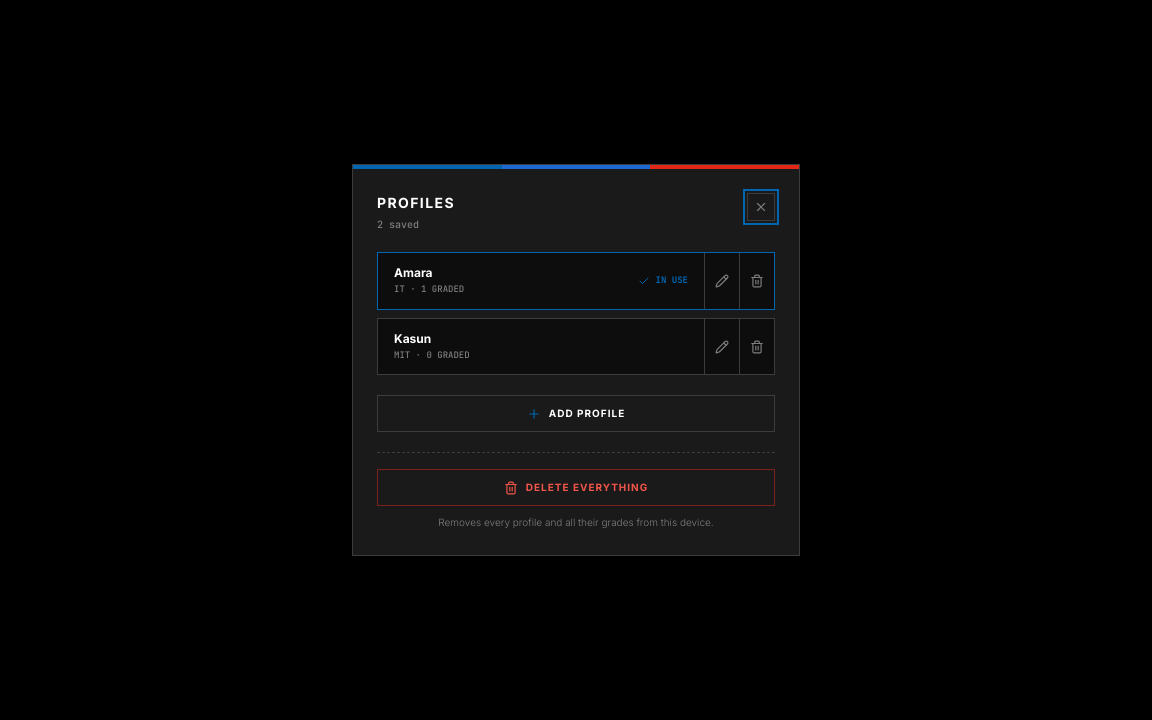
ProfileMenu › abandons a rename through the cancel button too
Click the button named "rename amara" at (722, 281), box [704, 253, 739, 309]
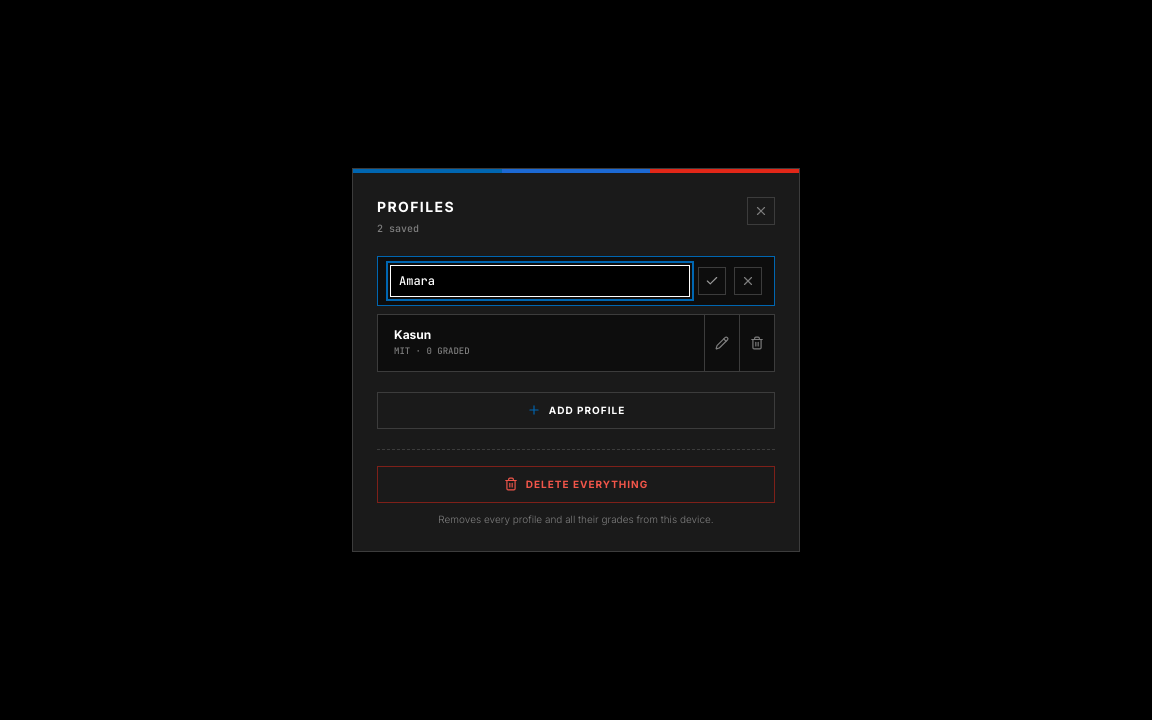
Type "Zed" into the field named "rename amara" at (540, 281), box [390, 265, 690, 297]
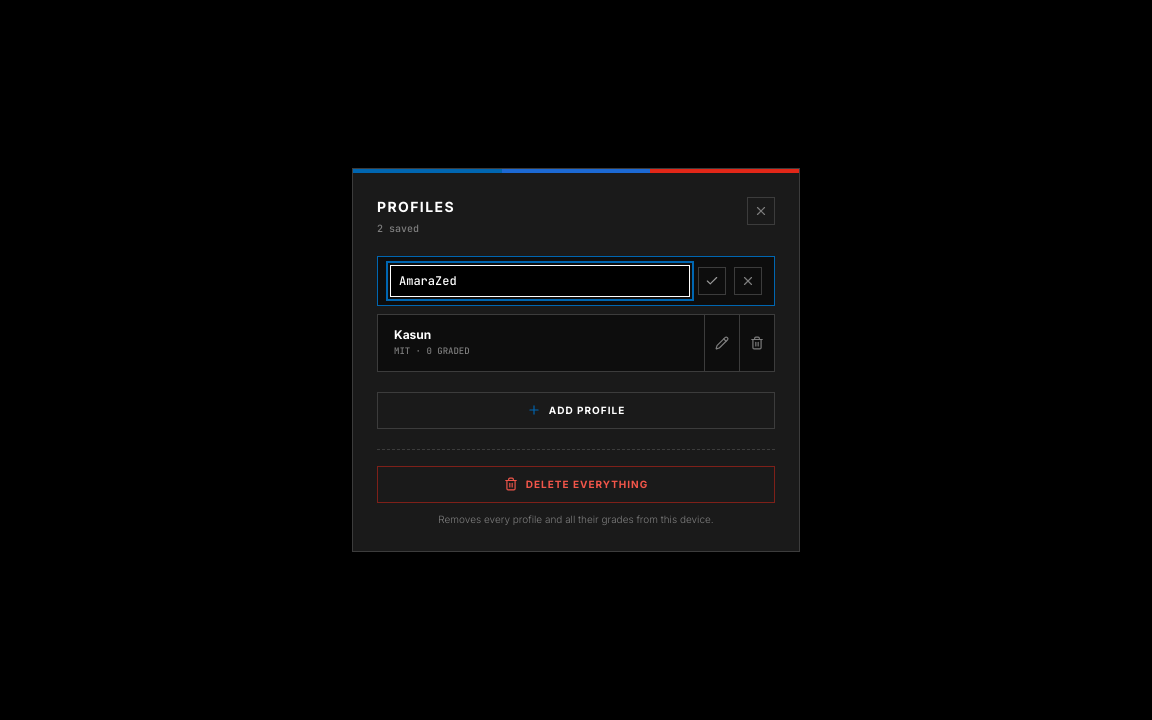
Click the button named "cancel rename" at (748, 281), box [734, 267, 762, 295]
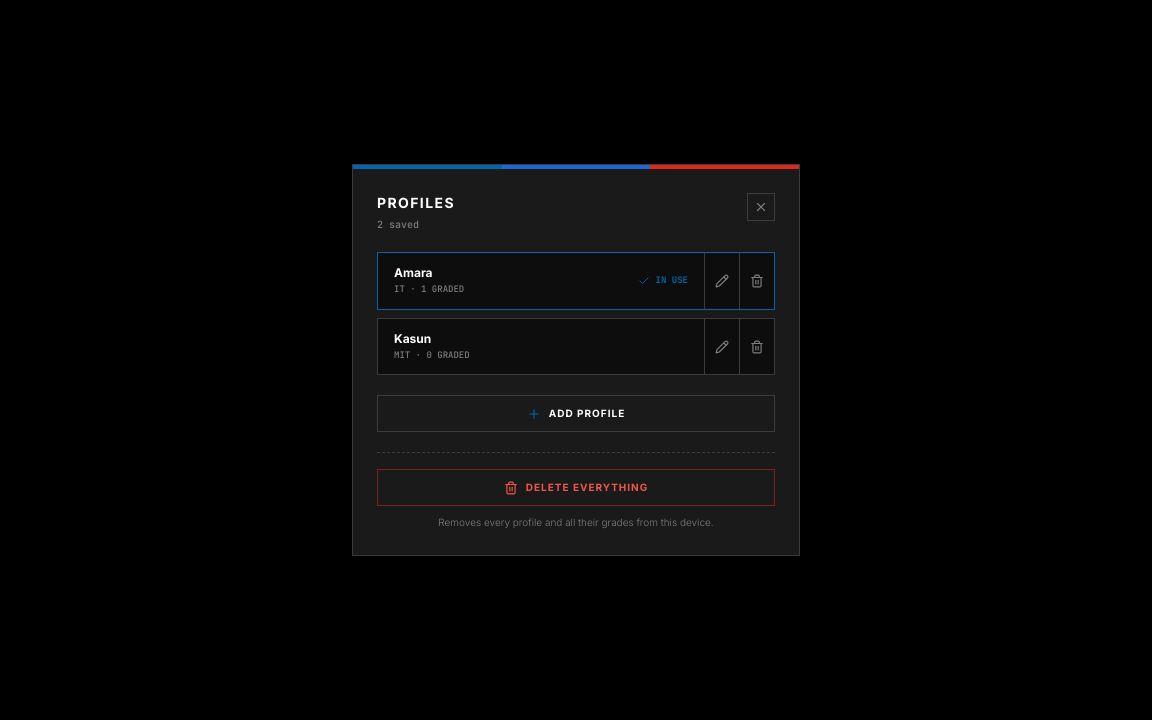
Now the text "Amara" is shown, box [394, 265, 433, 280]
